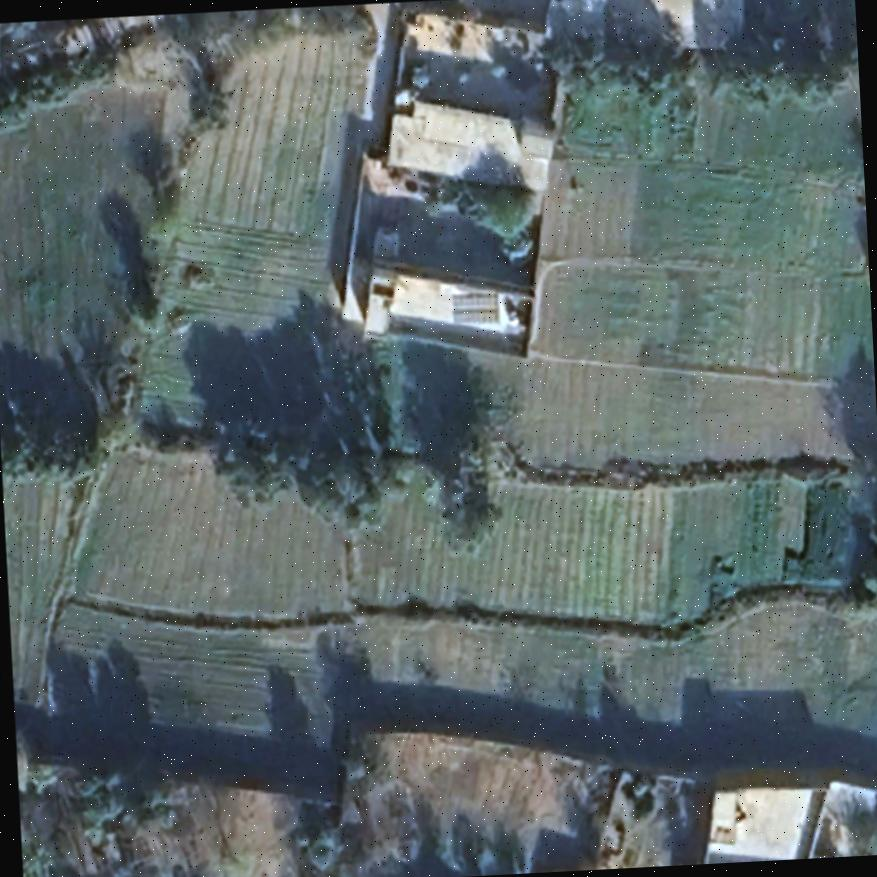Solarpanel: (451, 290, 497, 323)
